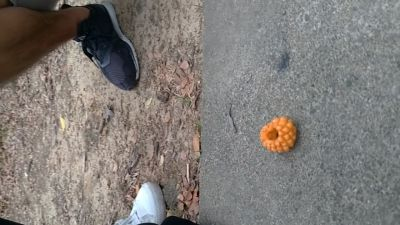eggs: (260, 116, 298, 153)
